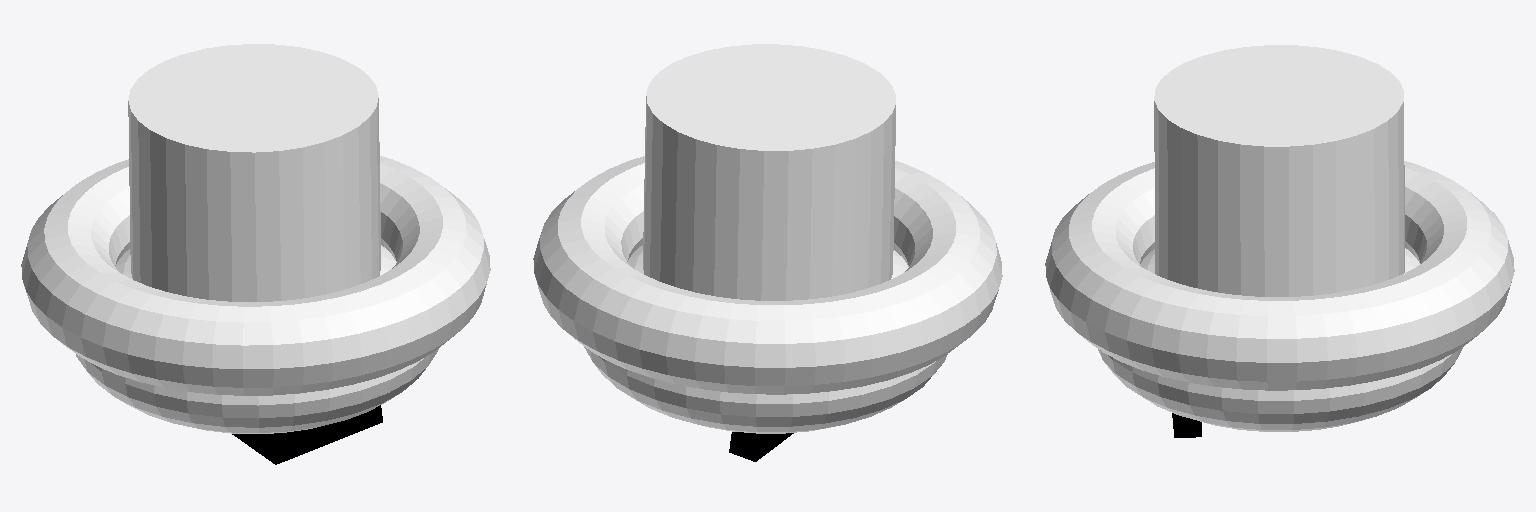
The picture shows the model from 3 angles: view 1: azimuth 30°, elevation 25°; view 2: azimuth 150°, elevation 25°; view 3: azimuth 270°, elevation 25°; orthographic projection.
Visible parts, largest first — view 1: テキスト; view 2: テキスト; view 3: テキスト.
Boxes of the visible parts, x1=… form: テキスト: x1=21, y1=44, x2=490, y2=464; テキスト: x1=533, y1=44, x2=1002, y2=461; テキスト: x1=1045, y1=45, x2=1514, y2=437.
Size of the model in its own units: 0.3744 by 0.2832 by 0.3744.
1 materials, 1 textured.